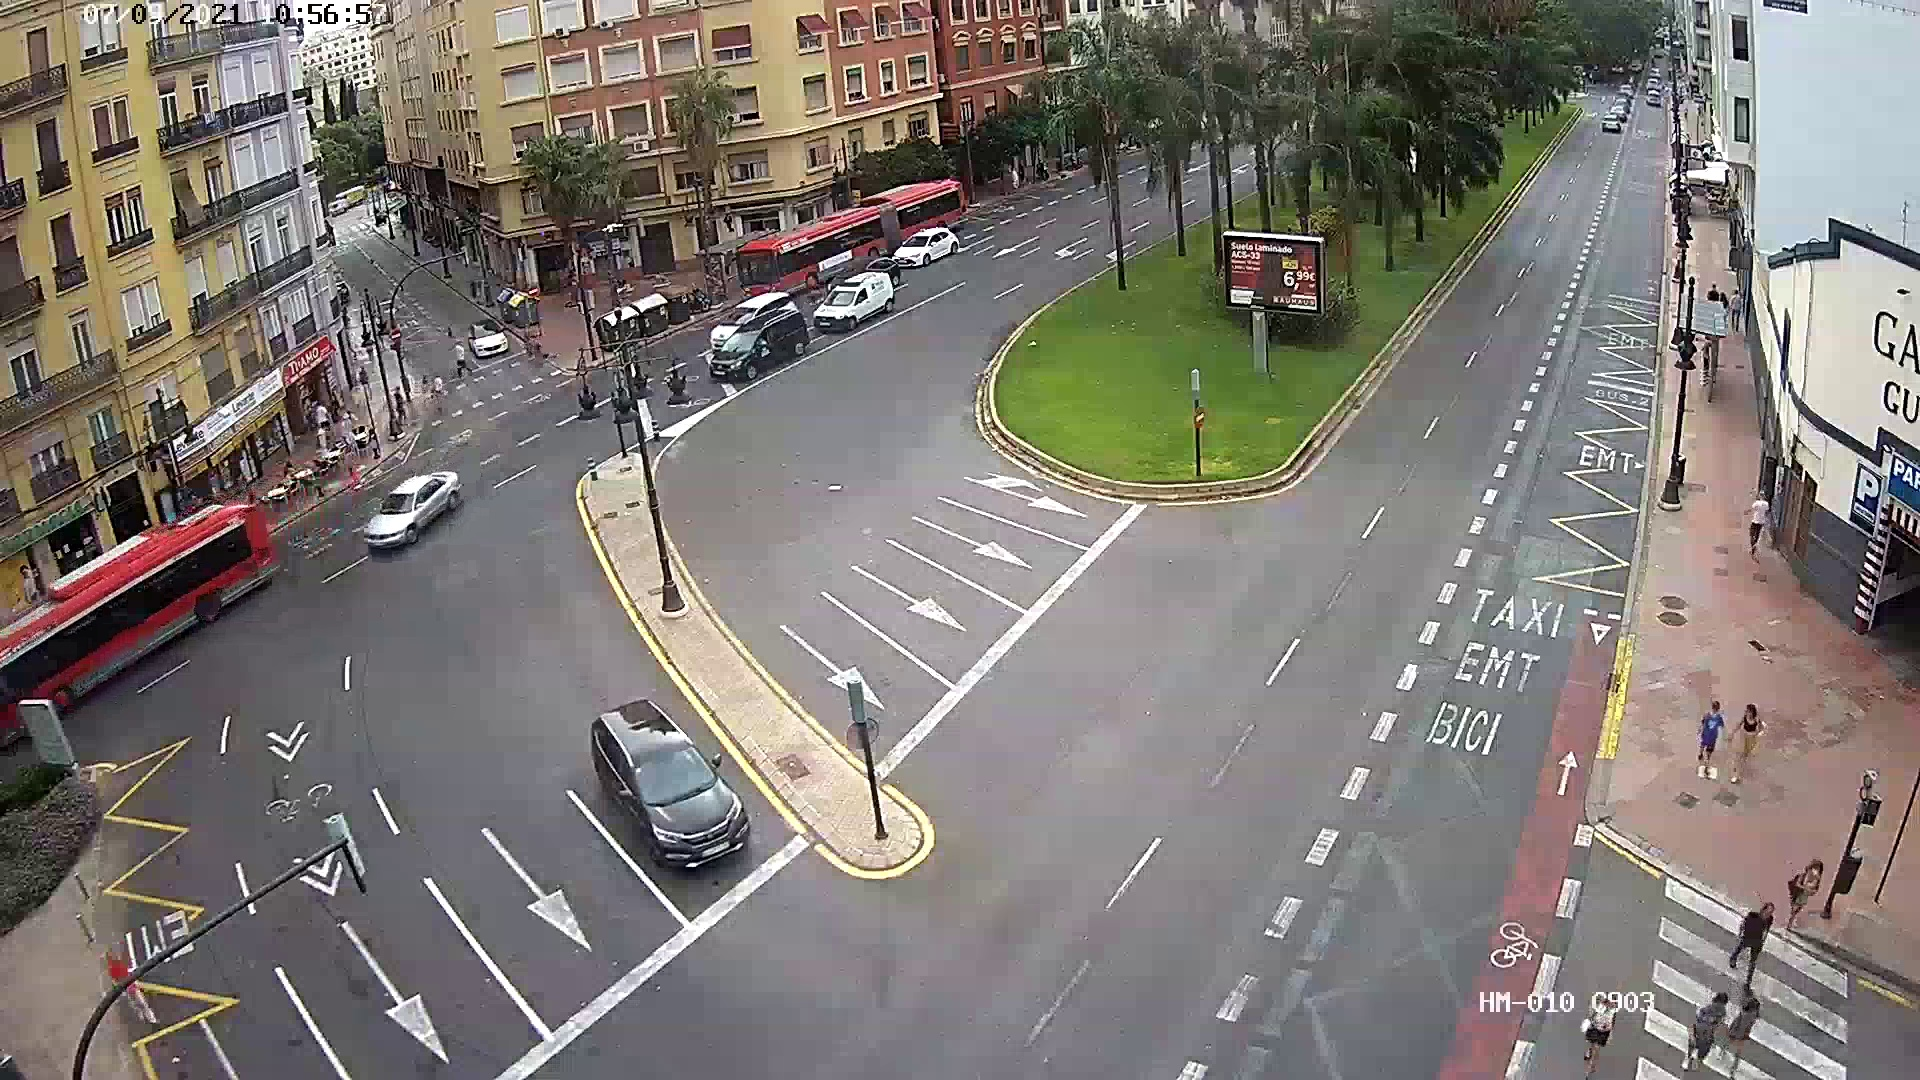Cars: (576, 691, 754, 886), (353, 493, 480, 551), (698, 310, 804, 371), (463, 313, 505, 360)
